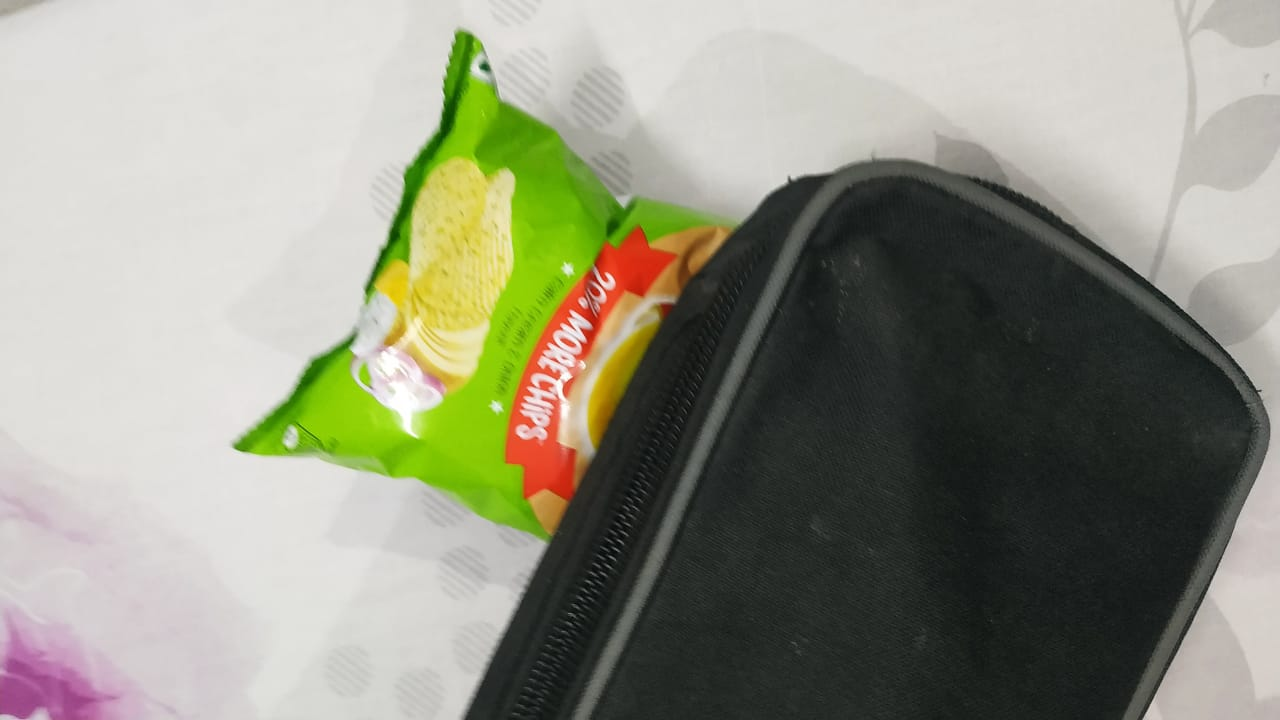lays chips: (215, 26, 765, 543)
